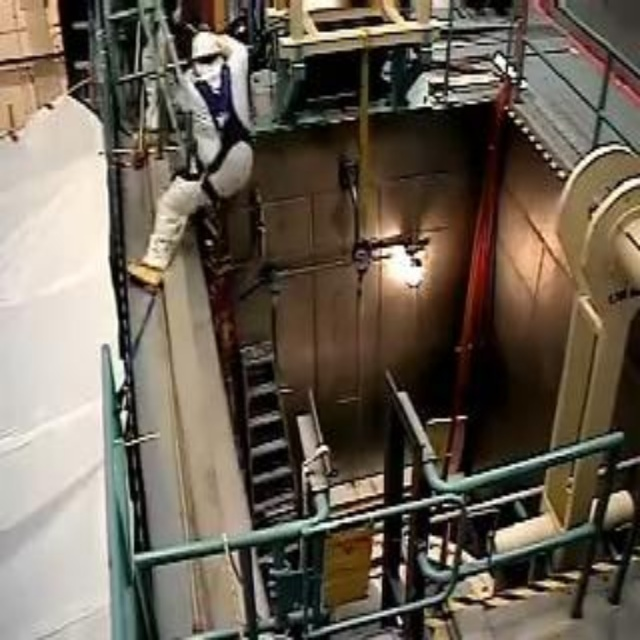Arnes_seguridad: (170, 64, 261, 213)
